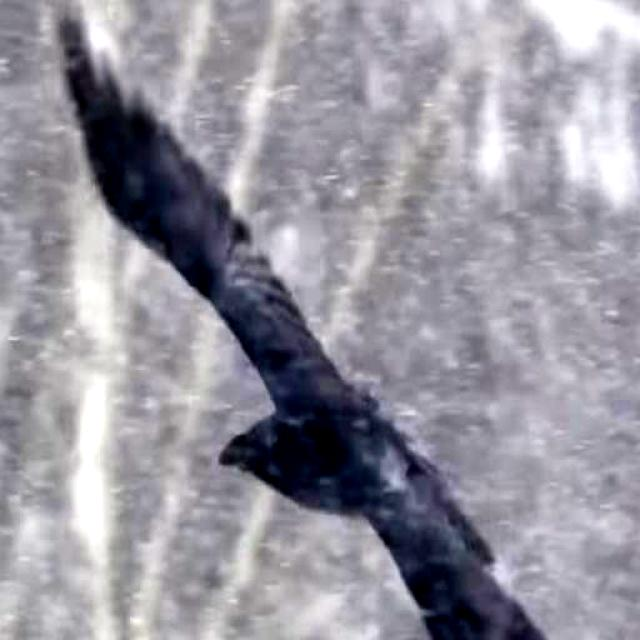airplane: (62, 12, 581, 640)
